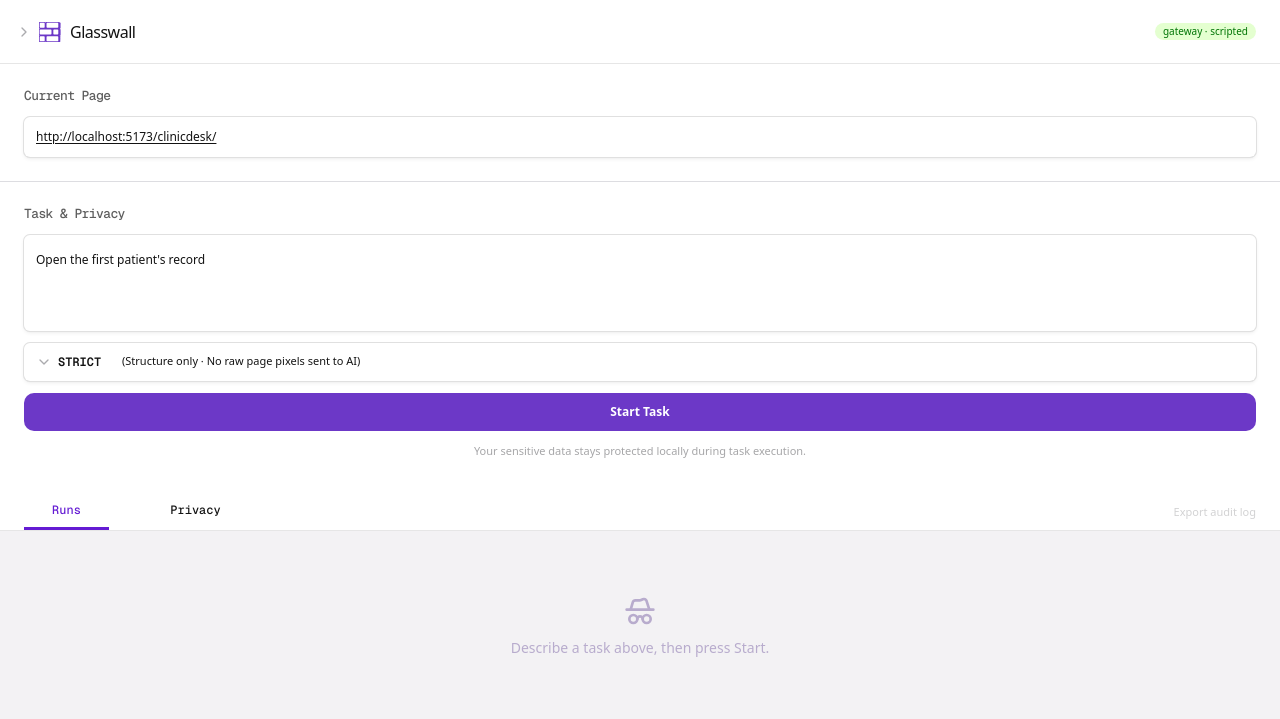
Scenario: side panel › starts a run, shows the trace, and reports completion
The width and height of the screenshot is (1280, 719).
Expected: the text "gateway · scripted" is shown, top-left (1155, 23), bottom-right (1256, 40)
Replace the text in the text box labelled "Task & Privacy" with "Fill the form": [640, 283] box top-left (24, 235), bottom-right (1256, 331)
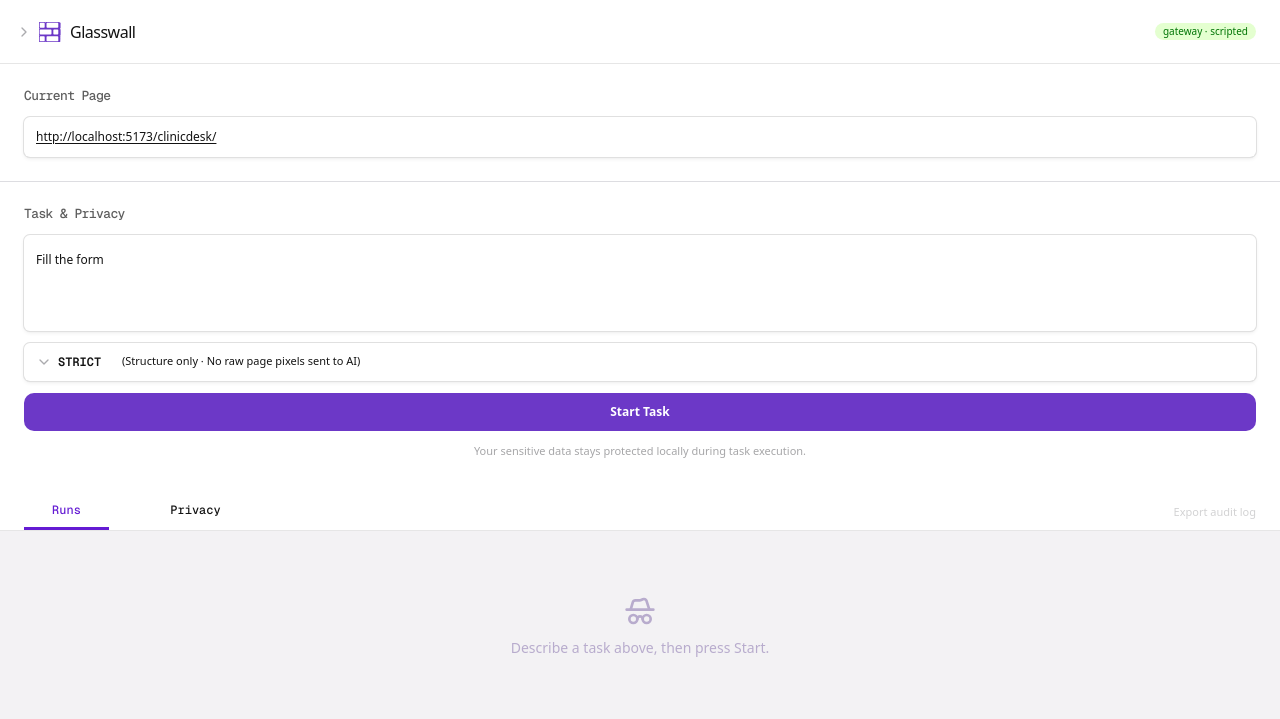
Click the button "Start Task": [640, 412] box top-left (24, 393), bottom-right (1256, 431)
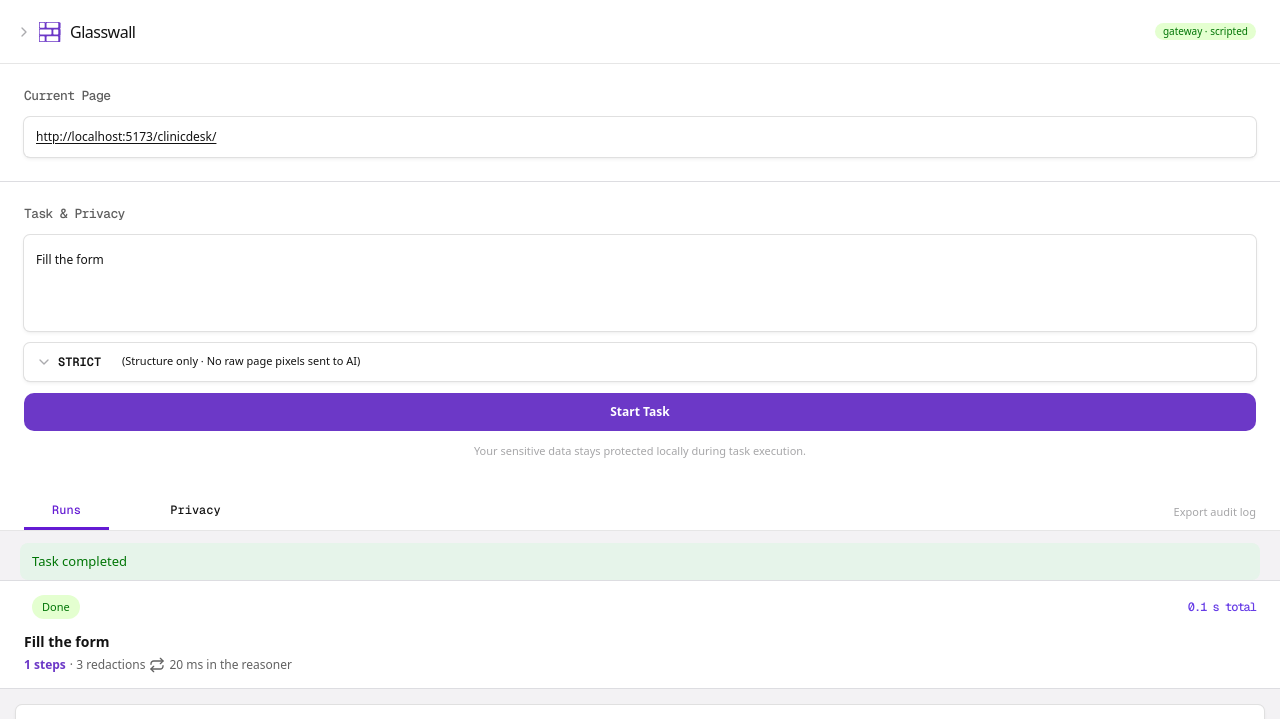
Expected: the text "Task completed" is shown, top-left (20, 543), bottom-right (1260, 580)
Expected: the text "done" is shown, top-left (32, 595), bottom-right (80, 619)
